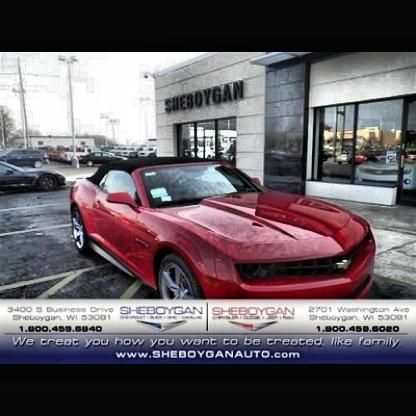Chevrolet Camaro Convertible 2012: (69, 152, 384, 303)
